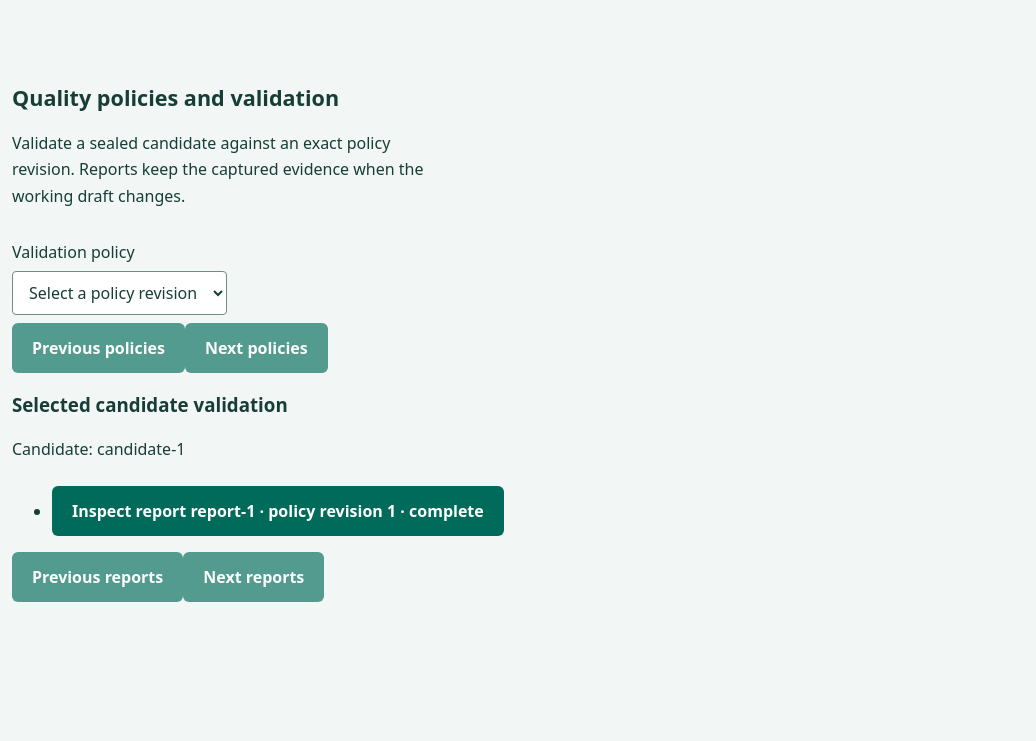
Test case: candidate quality evidence › inspects an offending immutable sample revision without rendering its storage key
The image size is (1036, 741).
Step 1. Click the button "Inspect report report-1 · policy revision 1 · complete" → (278, 511), box x1=52 y1=486 x2=504 y2=536
(page scrolled)
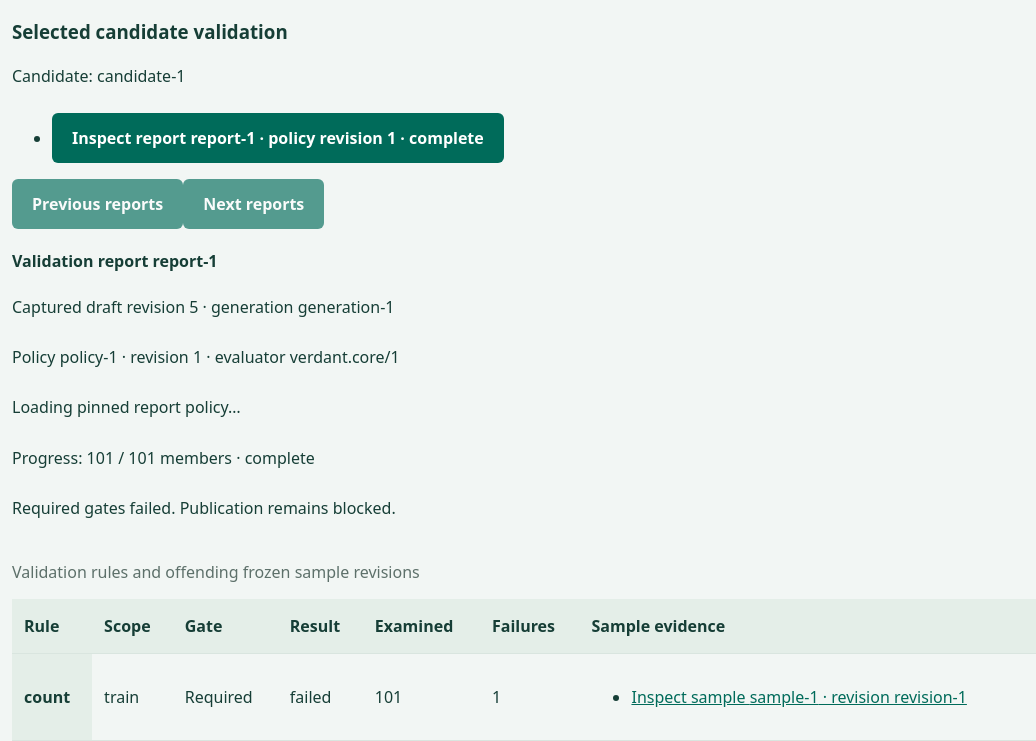
Step 2. Click the link "Inspect sample sample-1 · revision revision-1" → (691, 697), box x1=632 y1=686 x2=967 y2=708
(page scrolled)
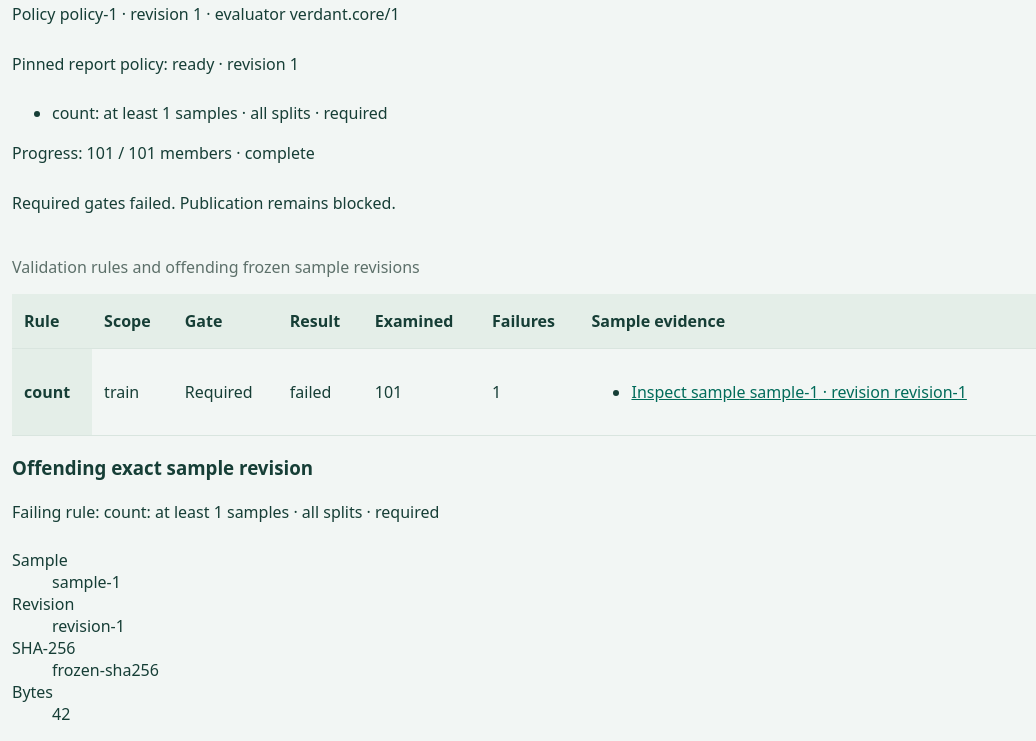
Expected: the text "frozen-sha256" is shown, x1=52 y1=659 x2=159 y2=681
